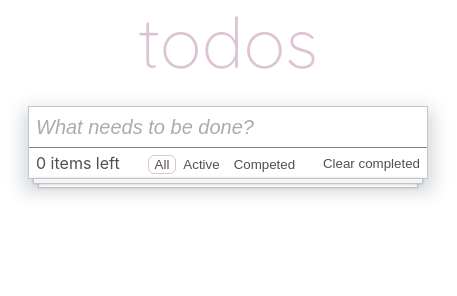
<TodoForm /> › adding items
This screenshot has width=457, height=296.
Type "New value" into the field with placeholder "What needs to be done?".
click(228, 127); type("New value")  # box [29,107,427,147]
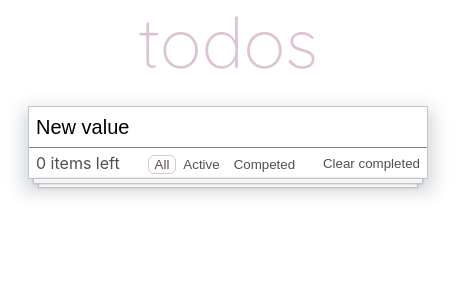
Press Enter in the field with placeholder "What needs to be done?", box [29,107,427,147]
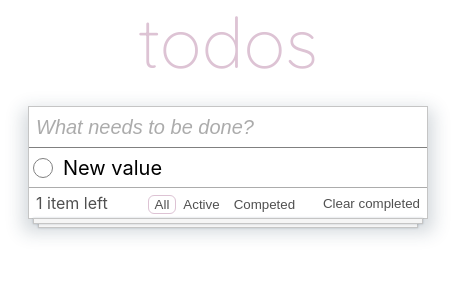
Expected: the number of list items is 1, [29,148,427,188]
Expected: the text "New value" is shown, [63,156,162,180]
Type "Newest value" into the field with placeholder "What needs to be done?".
click(228, 127); type("Newest value")  # box [29,107,427,147]
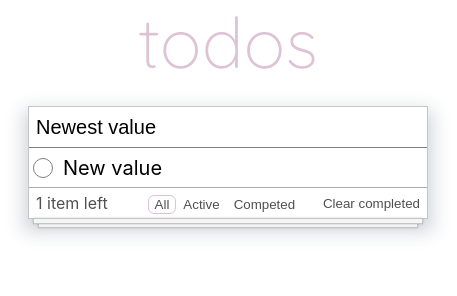
Press Enter in the field with placeholder "What needs to be done?", box [29,107,427,147]
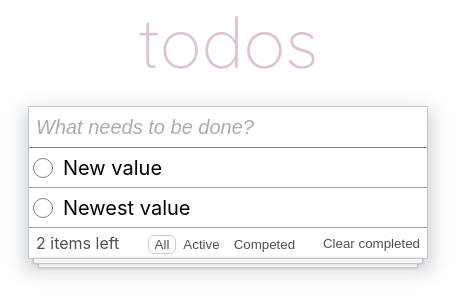
Expected: the number of list items is 2, [29,148,427,188]; [29,188,427,228]
Expected: the text "Newest value" is shown, [63,196,190,220]
